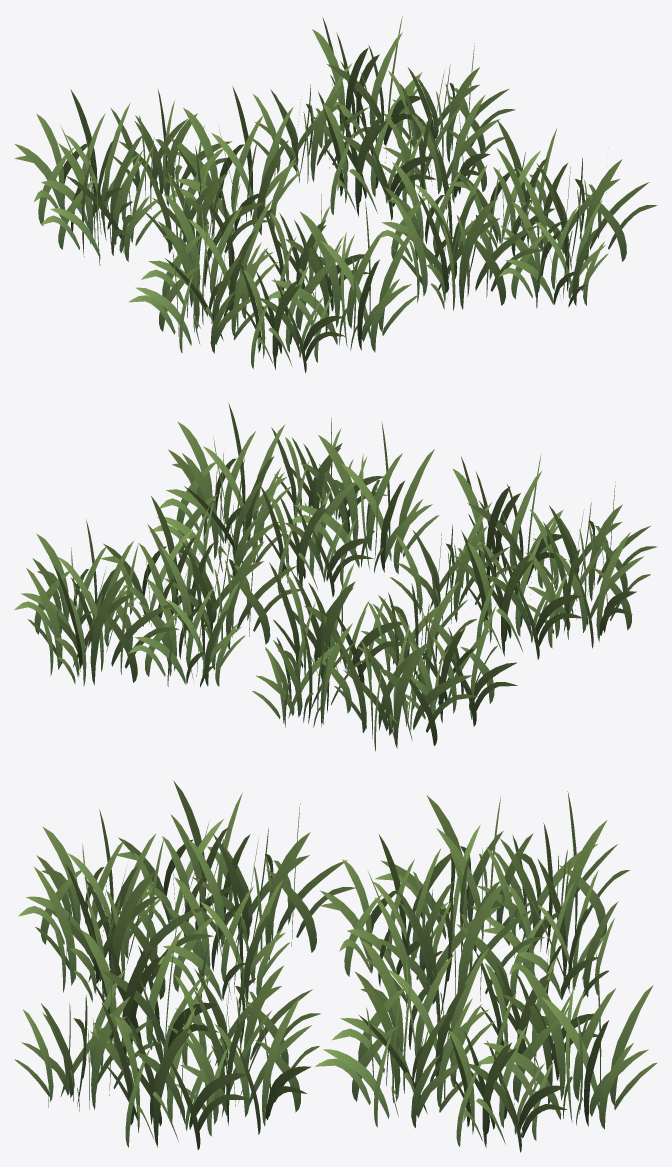
Rendered from optimizeGrass.gltf.
3 renders of one model, top to bottom at view 1: azimuth 30°, elevation 25°; view 2: azimuth 150°, elevation 25°; view 3: azimuth 270°, elevation 25°, orthographic. The views are drawn at different scales.
Visible parts, largest first — view 1: default9_Material_0; view 2: default9_Material_0; view 3: default9_Material_0.
Boxes of the visible parts, <box> form: default9_Material_0: <box>14,16,657,372</box>; default9_Material_0: <box>14,402,657,751</box>; default9_Material_0: <box>14,780,657,1152</box>.
Size of the model in its own units: 0.0121 by 0.00278 by 0.0116.
1 material, 1 textured.
